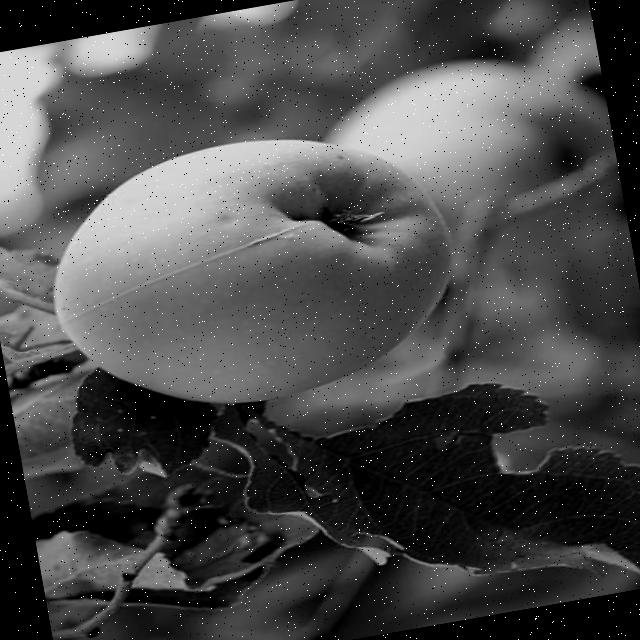Unripe: (26, 106, 473, 436)
